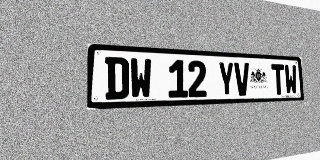1: (168, 59, 188, 98)
2: (188, 60, 207, 97)
D: (105, 57, 129, 100)
T: (271, 64, 285, 95)
V: (234, 62, 250, 96)
W: (130, 58, 152, 99), (284, 64, 298, 94)
Y: (218, 62, 235, 96)
